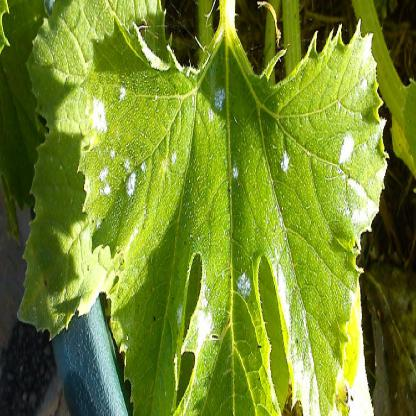squash powdery mildew leaf: (45, 5, 383, 415)
